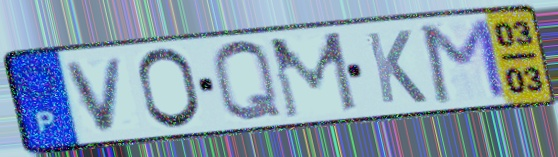K: (361, 27, 431, 106)
M: (266, 29, 362, 122), (419, 16, 510, 107)
O: (134, 45, 205, 132)
Q: (209, 37, 287, 126)
V: (62, 53, 128, 135)
